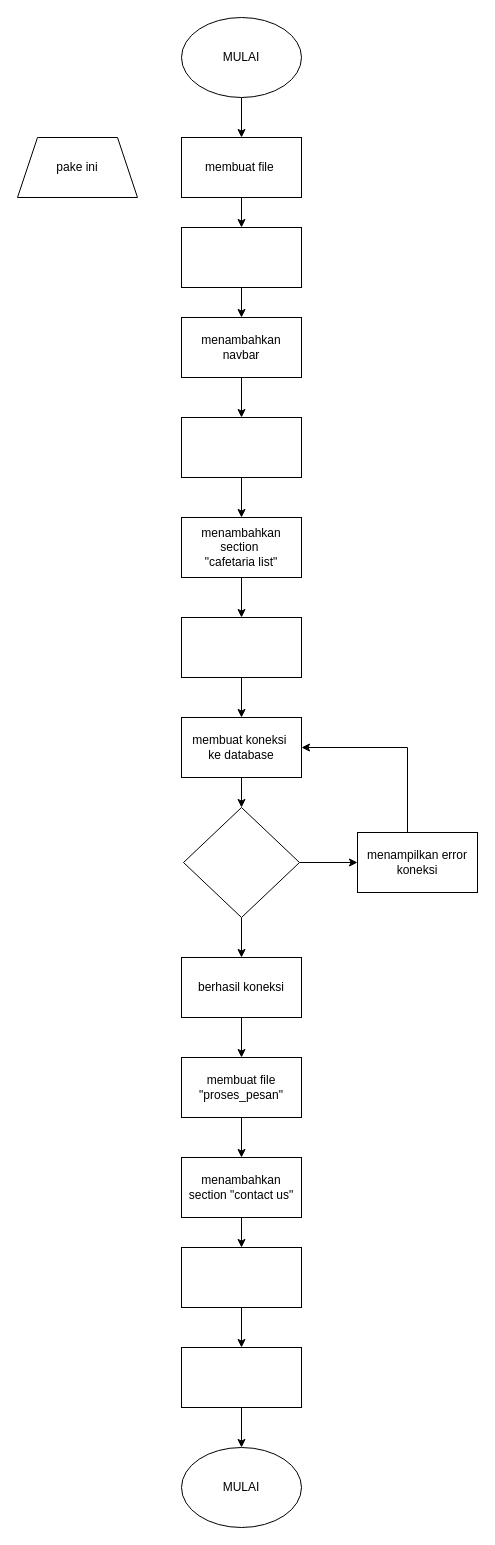
Some shapes in this 495 by 1545 pixel diagram are drawn without their labels. The shapes that lost their labels are listed below. From the top down, each one's centre as x and y in pixels, then its label:
point 241,257: menambahkan struktur html
point 241,447: menambahkan section "about kantin"
point 241,647: menambahkan section "how to buy"
point 241,862: cek apakah berhasil terkoneksi
point 241,1277: membuat file "contact_output"
point 241,1377: menambahkan footer
